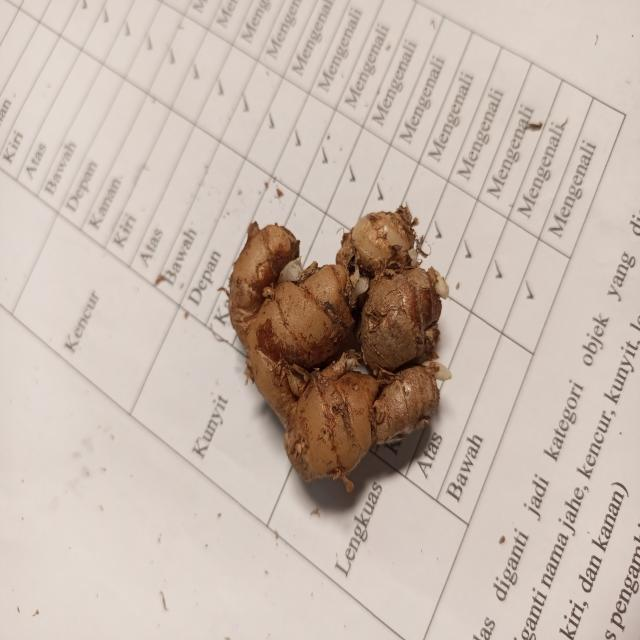ginger: (232, 210, 440, 463)
